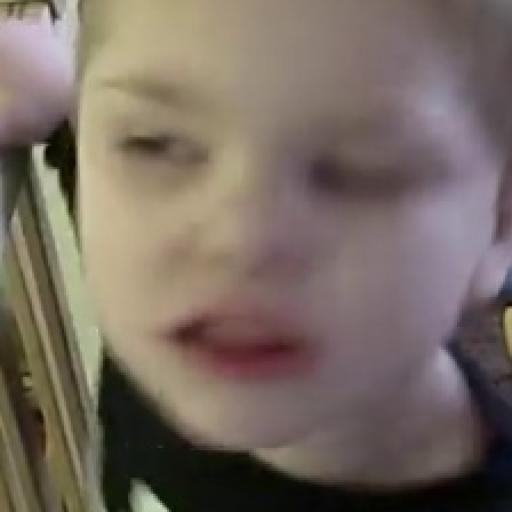Autism: (82, 4, 512, 450)
